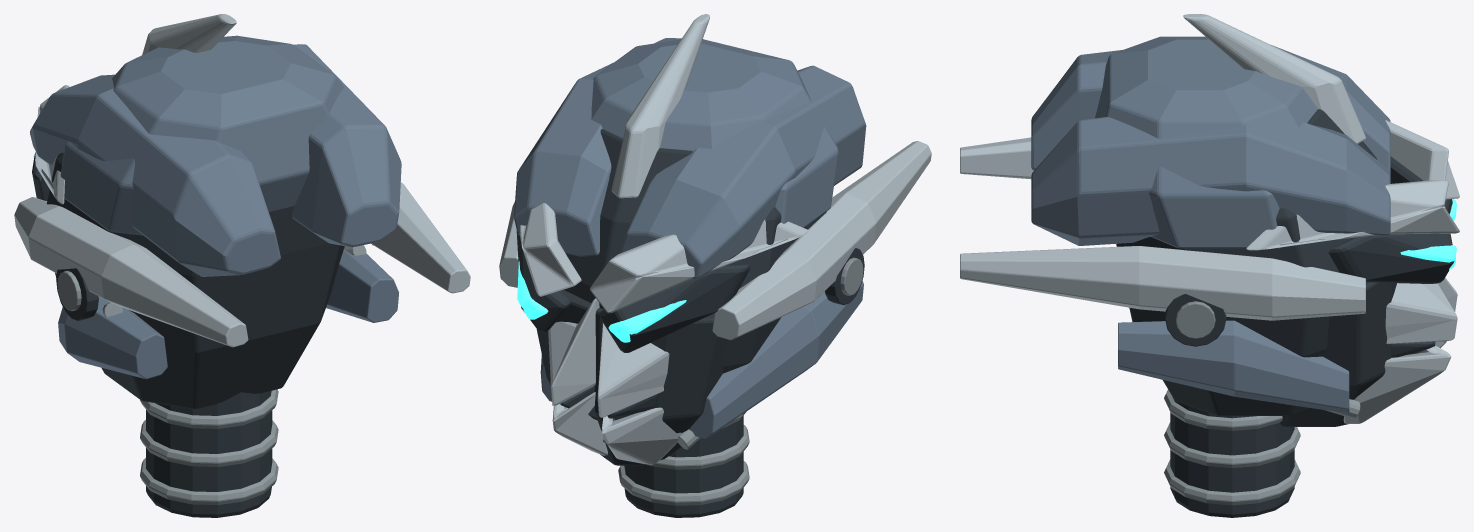
3 views of the same model, side by side, from view 1: azimuth 30°, elevation 25°; view 2: azimuth 150°, elevation 25°; view 3: azimuth 270°, elevation 25° (orthographic). The views are drawn at different scales.
Parts seen in each view (by area): view 1: Head_hero; view 2: Head_hero; view 3: Head_hero.
Boxes of the visible parts, x1=… form: Head_hero: x1=14, y1=14, x2=470, y2=517; Head_hero: x1=499, y1=14, x2=931, y2=517; Head_hero: x1=960, y1=14, x2=1459, y2=517.
Size of the model in its own units: 0.4242 by 0.6166 by 0.5838.
